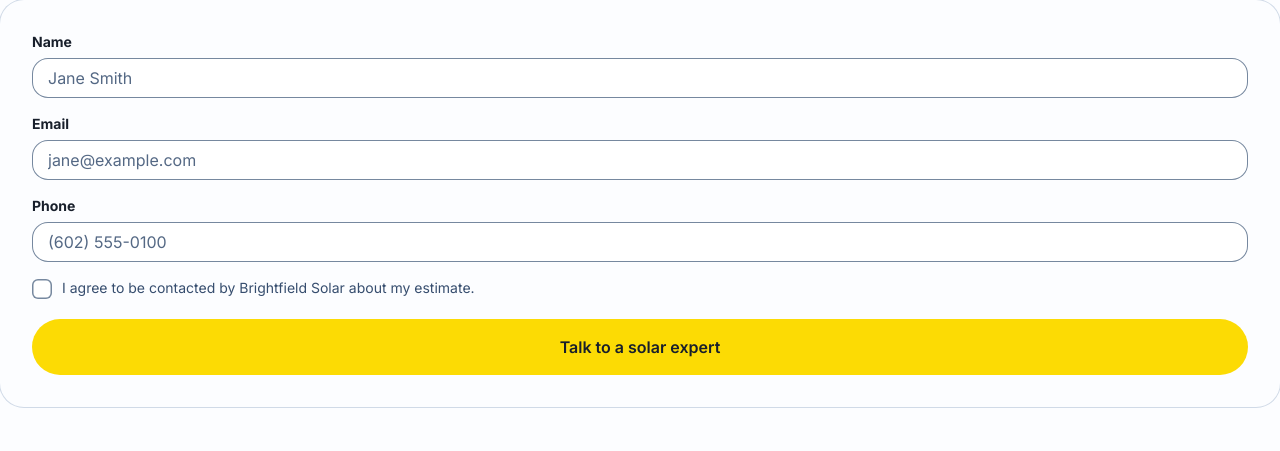
Test: LeadForm › offers a one-tap fix for a likely email typo
Type "jane@gmial.com" into the field labelled "Email" at (640,160), box [32, 140, 1248, 180]
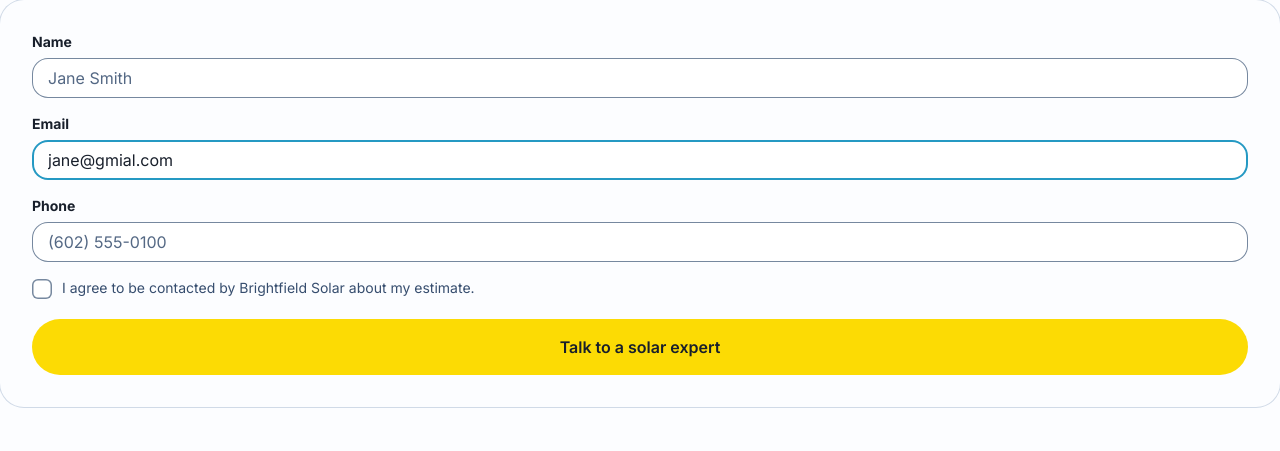
Press Tab
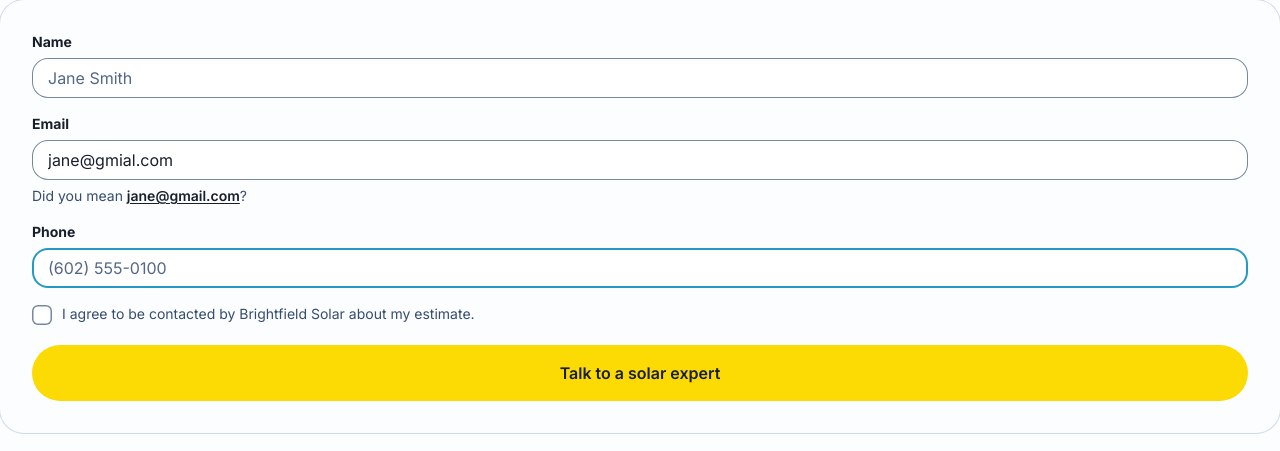
Click the button "jane@gmail.com" at (183,196), box [127, 186, 240, 206]
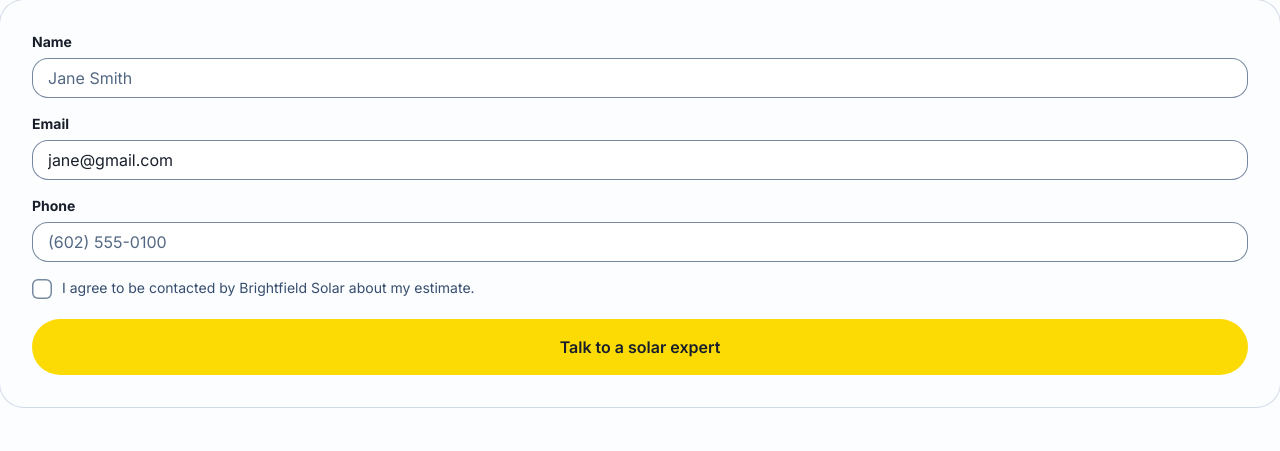
Expected: the field labelled "Email" holds "jane@gmail.com", [32, 140, 1248, 180]
Expected: the text "Did you mean" is gone
